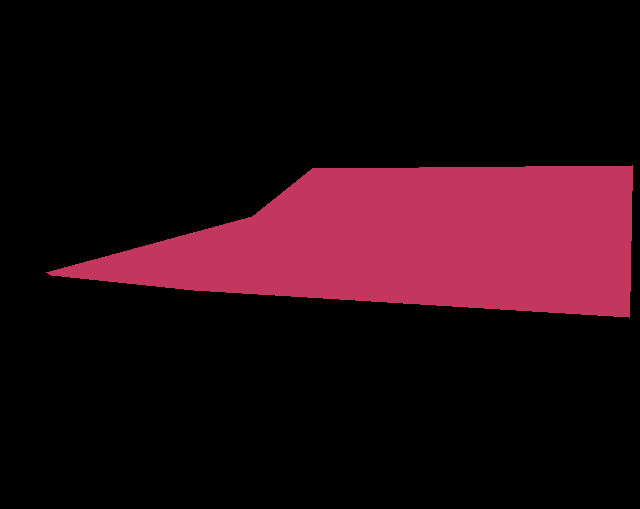Airplane: (46, 165, 633, 317)
